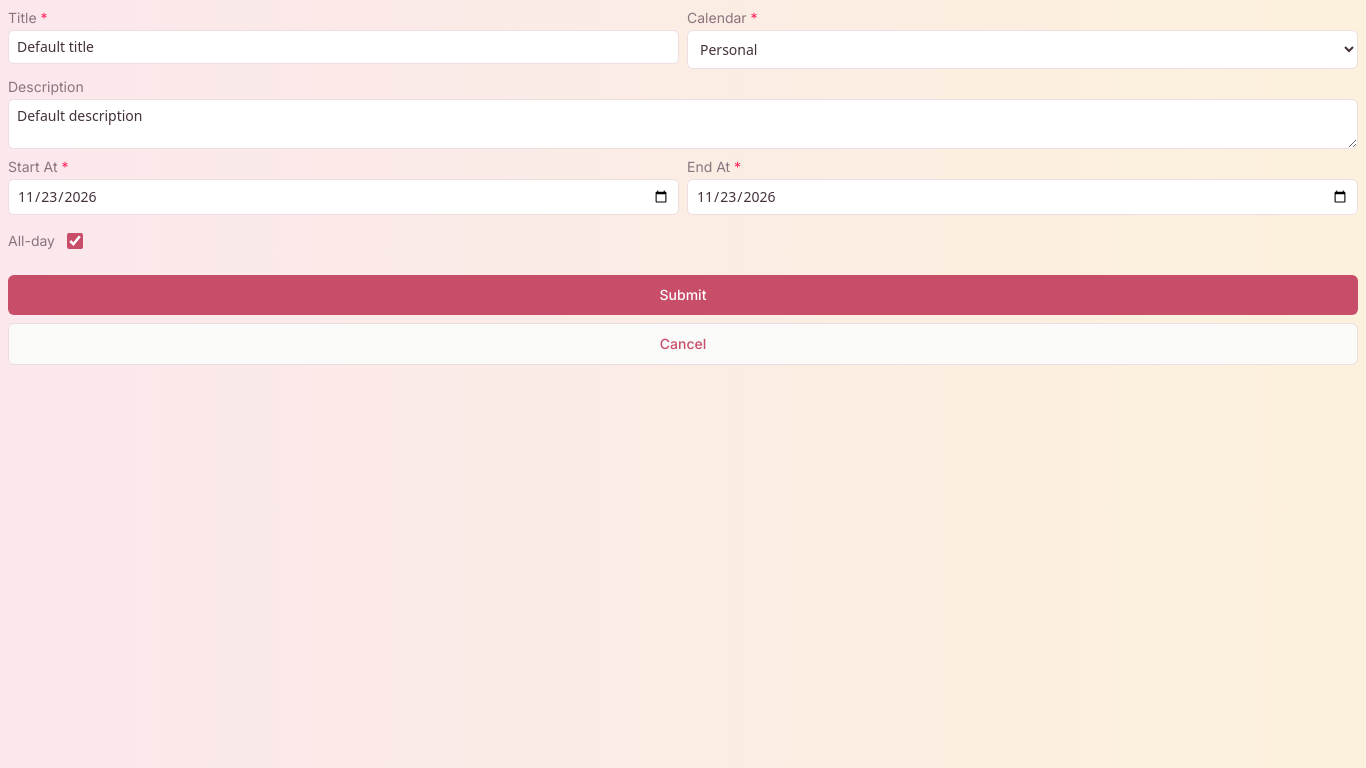
EventForm › Should transform date values to datetime-local with timeCache value when isAllDay is unchecked
Expected: the date field labelled "Start At *" holds "2026-11-23", left=8, top=179, right=679, bottom=215
Expected: the date field labelled "End At *" holds "2026-11-23", left=687, top=179, right=1358, bottom=215
Click the checkbox labelled "All-day": click(75, 241) left=67, top=233, right=83, bottom=249
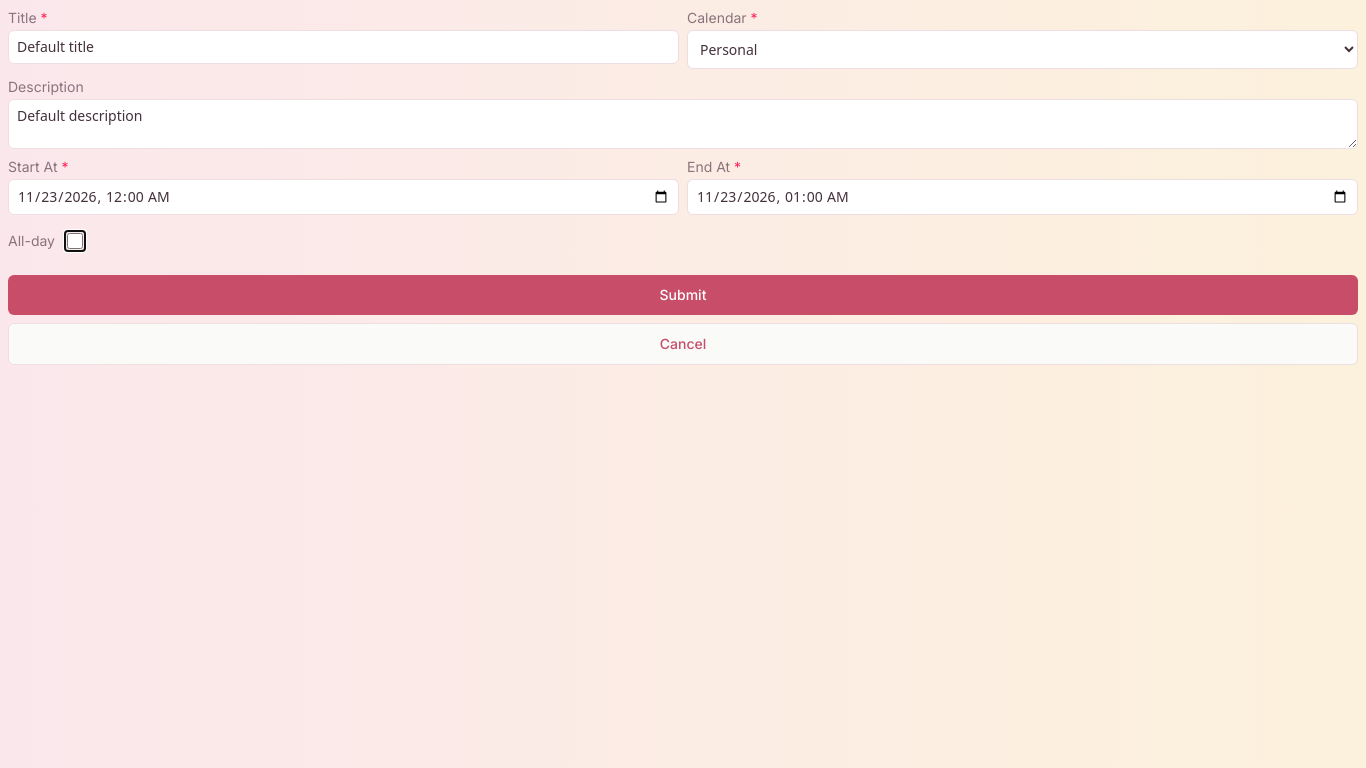
Expected: the field labelled "Start At *" holds "2026-11-23T00:00", left=8, top=179, right=679, bottom=215
Expected: the field labelled "End At *" holds "2026-11-23T01:00", left=687, top=179, right=1358, bottom=215
